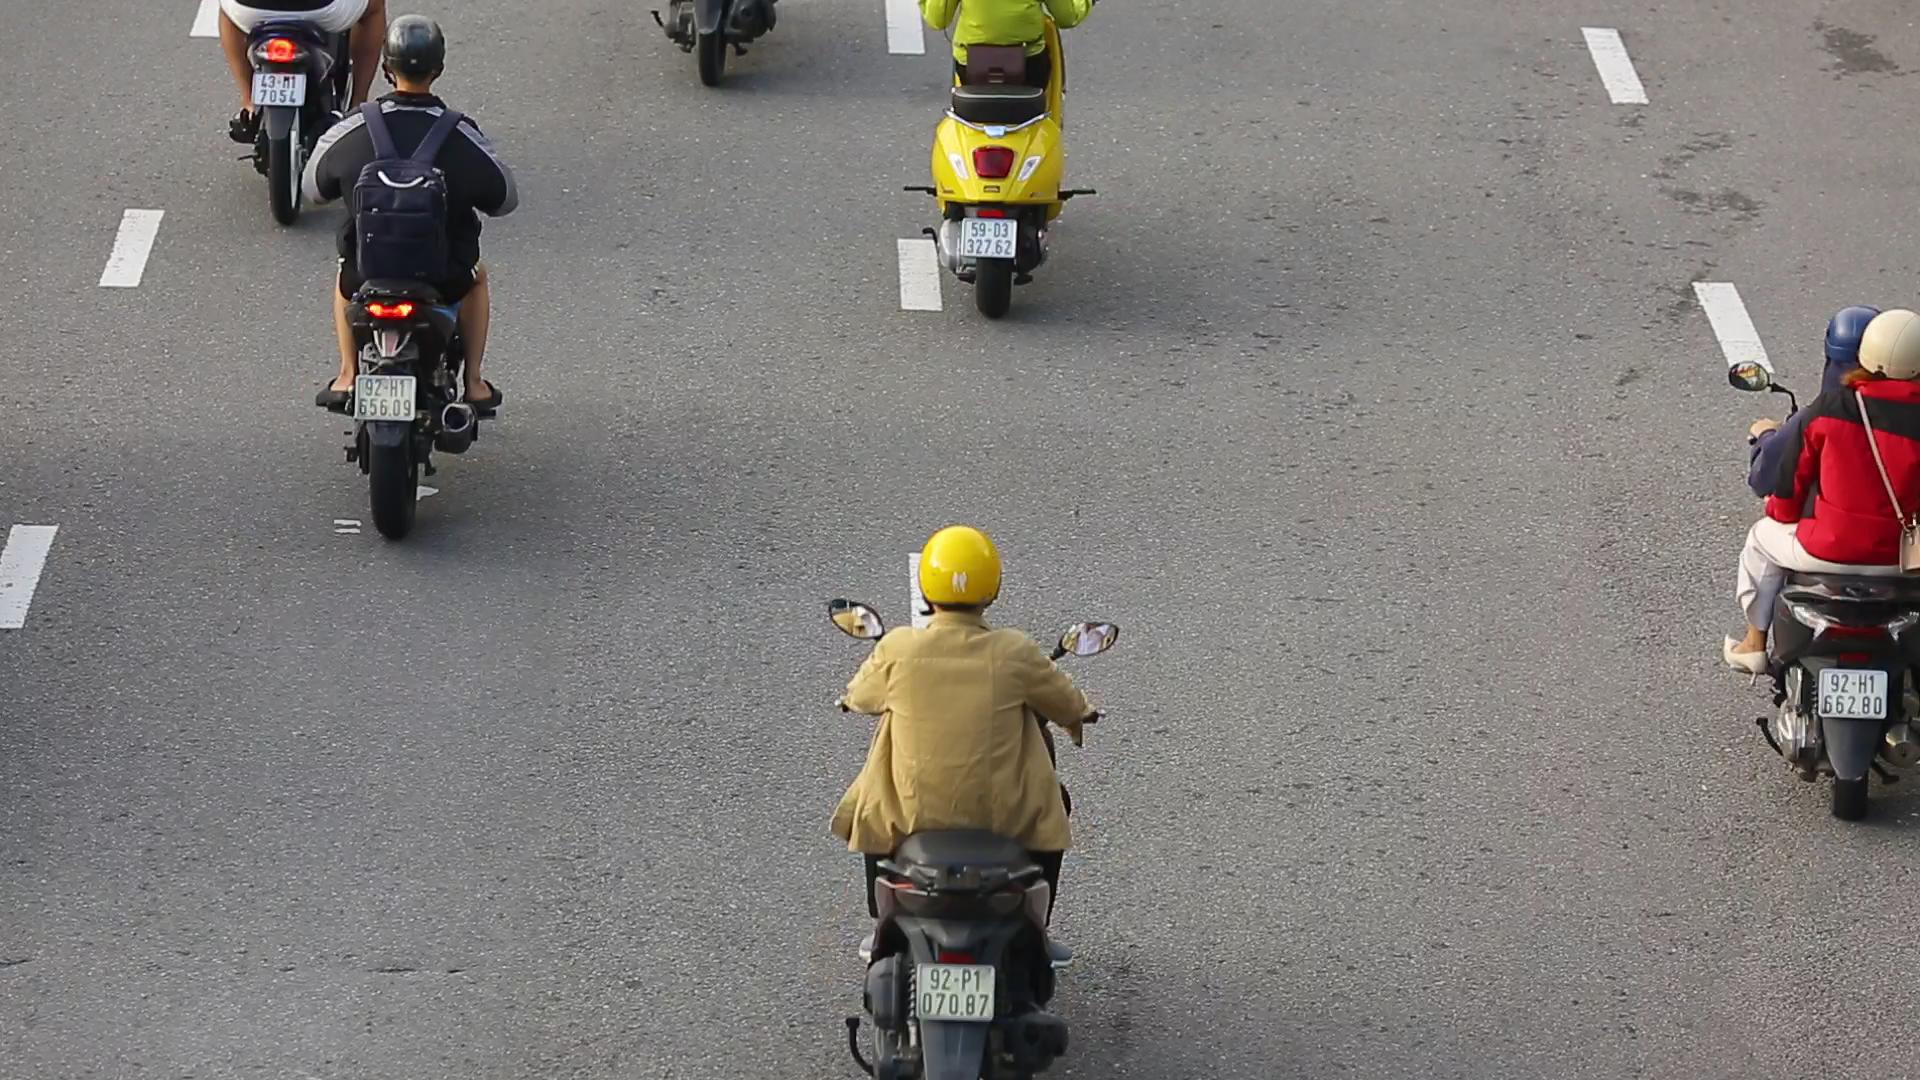motobike: (804, 496, 1118, 1080), (298, 16, 521, 575)
